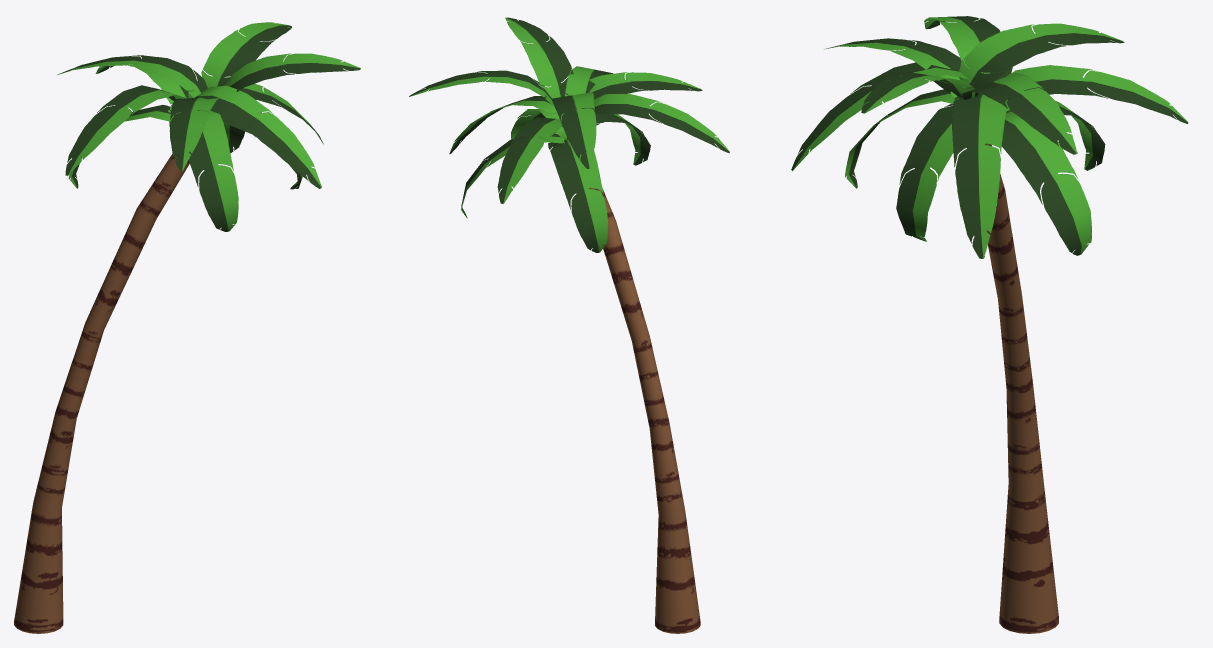
The model's file is palm tree model 2 ver 3.FBX.
3 views of the same model, side by side, from view 1: azimuth 30°, elevation 25°; view 2: azimuth 150°, elevation 25°; view 3: azimuth 270°, elevation 25° (orthographic). The views are drawn at different scales.
Parts seen in each view (by area): view 1: Cylinder002, Plane029, Plane032, Plane038, Plane030, Plane041, Plane039, Plane040, Plane026, Plane031, Plane028; view 2: Cylinder002, Plane028, Plane030, Plane041, Plane031, Plane040, Plane039, Plane038, Plane026, Plane029, Plane032, Plane033 (+1 smaller); view 3: Cylinder002, Plane026, Plane033, Plane040, Plane027, Plane031, Plane038, Plane032, Plane039, Plane041, Plane030, Plane029 (+1 smaller).
Part boxes in pixels (x1=…): Cylinder002: x1=14, y1=154, x2=189, y2=633; Plane029: x1=174, y1=110, x2=238, y2=231; Plane032: x1=195, y1=85, x2=321, y2=188; Plane038: x1=201, y1=22, x2=291, y2=88; Plane030: x1=65, y1=85, x2=185, y2=176; Plane041: x1=225, y1=53, x2=360, y2=91; Plane039: x1=169, y1=97, x2=218, y2=170; Plane040: x1=57, y1=55, x2=207, y2=97; Plane026: x1=188, y1=77, x2=323, y2=144; Plane031: x1=95, y1=63, x2=197, y2=113; Plane028: x1=68, y1=105, x2=175, y2=188; Cylinder002: x1=589, y1=188, x2=700, y2=633; Plane028: x1=548, y1=139, x2=608, y2=252; Plane030: x1=585, y1=93, x2=729, y2=152; Plane041: x1=505, y1=17, x2=573, y2=98; Plane031: x1=497, y1=117, x2=562, y2=203; Plane040: x1=551, y1=92, x2=596, y2=168; Plane039: x1=568, y1=72, x2=702, y2=108; Plane038: x1=409, y1=70, x2=554, y2=107; Plane026: x1=449, y1=96, x2=567, y2=154; Plane029: x1=567, y1=114, x2=650, y2=165; Plane032: x1=564, y1=66, x2=613, y2=96; Plane033: x1=461, y1=132, x2=565, y2=218; Cylinder002: x1=985, y1=143, x2=1058, y2=633; Plane026: x1=951, y1=94, x2=1007, y2=258; Plane033: x1=1002, y1=111, x2=1091, y2=255; Plane040: x1=959, y1=23, x2=1124, y2=88; Plane027: x1=896, y1=103, x2=953, y2=241; Plane031: x1=1006, y1=65, x2=1188, y2=123; Plane038: x1=962, y1=73, x2=1077, y2=154; Plane032: x1=791, y1=62, x2=972, y2=171; Plane039: x1=824, y1=38, x2=964, y2=99; Plane041: x1=861, y1=72, x2=975, y2=113; Plane030: x1=924, y1=16, x2=1012, y2=81; Plane029: x1=845, y1=89, x2=956, y2=188.
Size of the model in its own units: 218 by 357 by 207.
